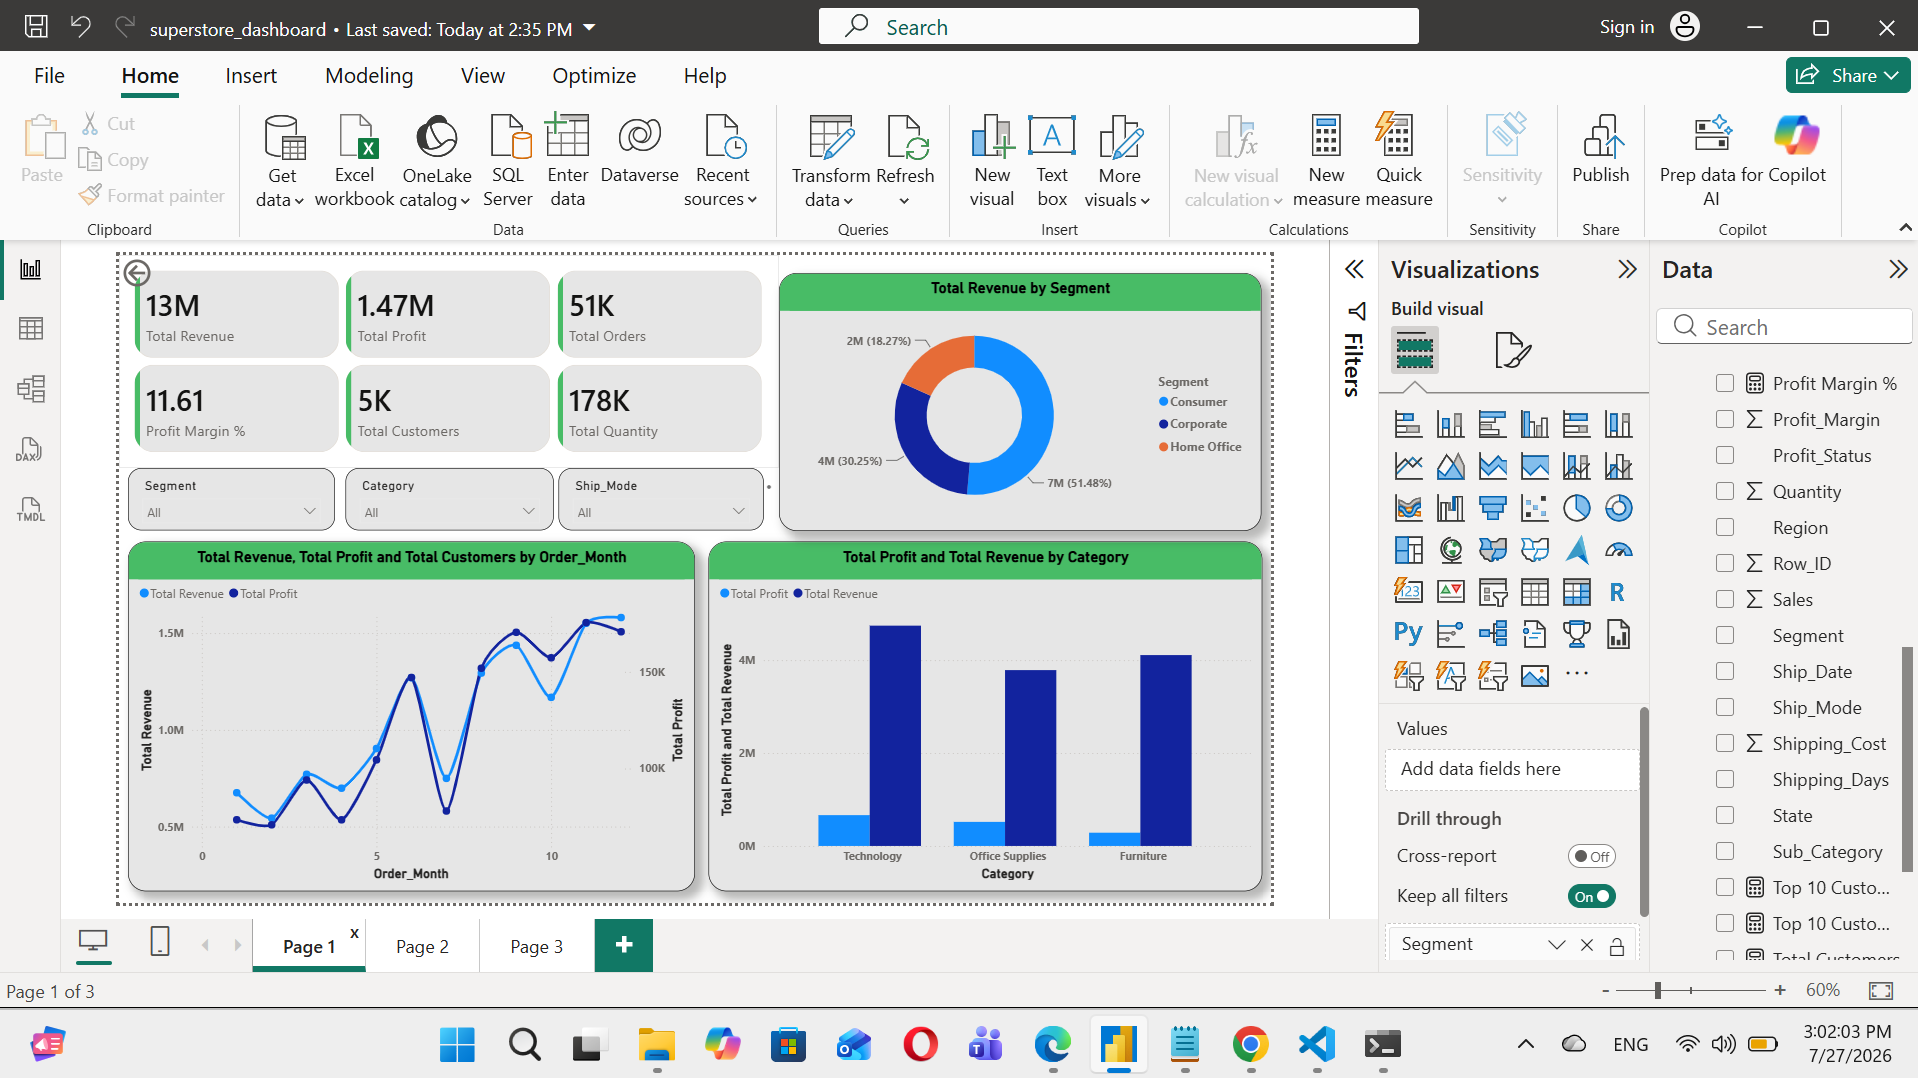

This screenshot's page, from the dashboard's own definition file:
{"tool":"powerbi","page":{"name":"Page 1","canvas":[1280,720],"ordinal":0},"visuals":[{"type":"lineChart","fields":{"Category":["superstoredb sales.Order_Month"],"Y":["superstoredb sales.Total Revenue"],"Y2":["superstoredb sales.Total Profit"]},"box":[9.7,319,629.9,388.6],"z":0},{"type":"cardVisual","fields":{"Data":["superstoredb sales.Total Revenue","superstoredb sales.Total Profit","superstoredb sales.Total Orders","superstoredb sales.Profit Margin %","superstoredb sales.Total Customers","Sum(superstoredb sales.Quantity)"]},"box":[0,0,733.5,236.4],"z":1000},{"type":"clusteredColumnChart","fields":{"Category":["superstoredb sales.Category"],"Y":["superstoredb sales.Total Profit","superstoredb sales.Total Revenue"]},"box":[654.2,319,615.3,388.6],"z":2000},{"type":"donutChart","fields":{"Category":["superstoredb sales.Segment"],"Y":["superstoredb sales.Total Revenue"]},"box":[733.5,19.4,536,286.6],"z":3000},{"type":"slicer","fields":{"Values":["superstoredb sales.Segment"]},"box":[9.7,236.4,229.9,69.6],"z":4000},{"type":"actionButton","box":[0,0,100,40],"z":5000},{"type":"slicer","fields":{"Values":["superstoredb sales.Category"]},"box":[251,236.4,231.5,69.6],"z":6000},{"type":"slicer","fields":{"Values":["superstoredb sales.Ship_Mode"]},"box":[489,236.4,228.3,69.6],"z":7000}]}

Visuals, with their boxes on the page's 1280x720 design canvas (x1, y1, x2, y2). These are canvas units, not pixel positions in the 1918x1078 screenshot, which may show the page scaled, cropped or inside an application window:
lineChart - superstoredb sales.Order_Month x superstoredb sales.Total Revenue: x1=10, y1=319, x2=640, y2=708
cardVisual - superstoredb sales.Total Revenue x superstoredb sales.Total Profit: x1=0, y1=0, x2=734, y2=236
clusteredColumnChart - superstoredb sales.Category x superstoredb sales.Total Profit: x1=654, y1=319, x2=1270, y2=708
donutChart - superstoredb sales.Segment x superstoredb sales.Total Revenue: x1=734, y1=19, x2=1270, y2=306
slicer - superstoredb sales.Segment: x1=10, y1=236, x2=240, y2=306
actionButton: x1=0, y1=0, x2=100, y2=40
slicer - superstoredb sales.Category: x1=251, y1=236, x2=482, y2=306
slicer - superstoredb sales.Ship_Mode: x1=489, y1=236, x2=717, y2=306
